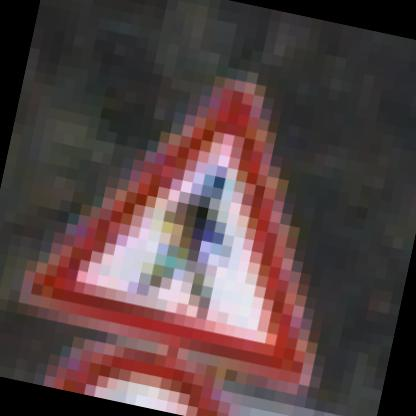crosswalk: (13, 53, 354, 396)
